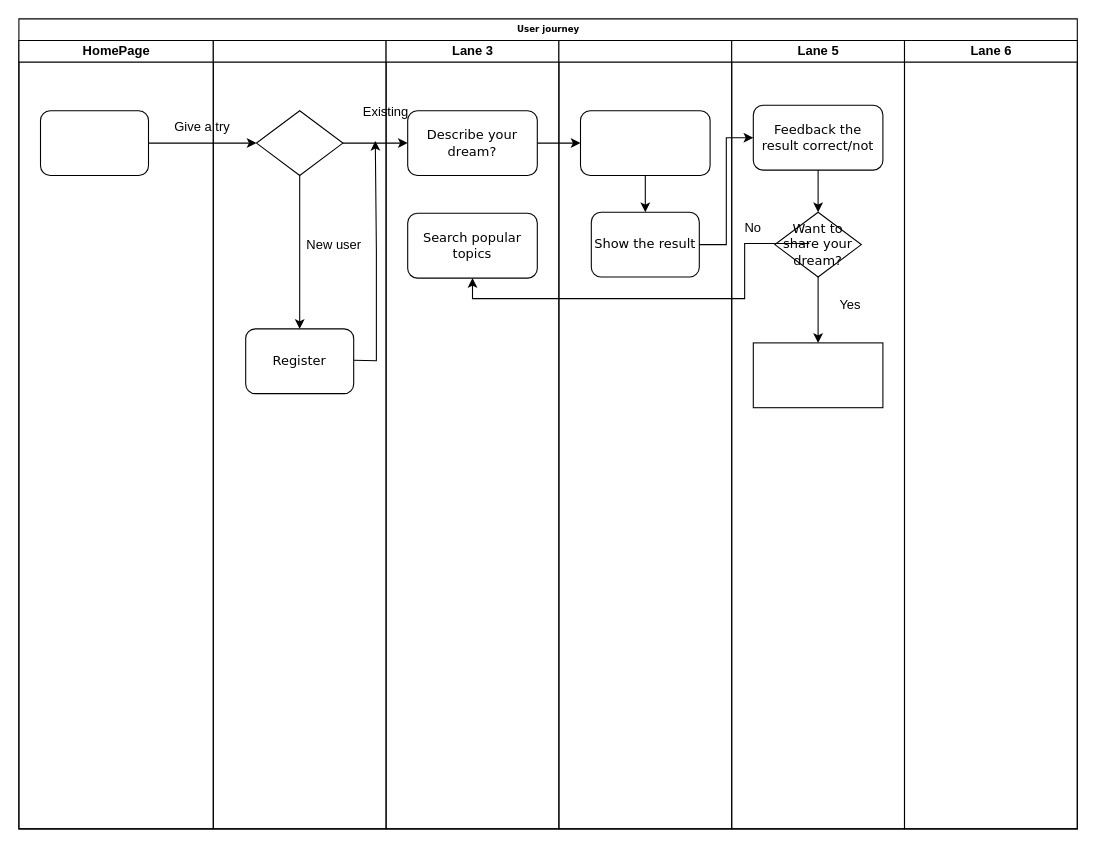
The diagram is 1096 pixels wide and 848 high, and some of its shapes have lost their labels. Each missing label, with the box of its shape:
Choose a topic: (752, 342, 883, 408)
Describe your dream? LLM: (579, 110, 710, 176)
Lane 4: (558, 39, 732, 829)
Login: (255, 110, 343, 176)
Page login: (212, 39, 386, 829)
Welcome message: (39, 110, 148, 176)
